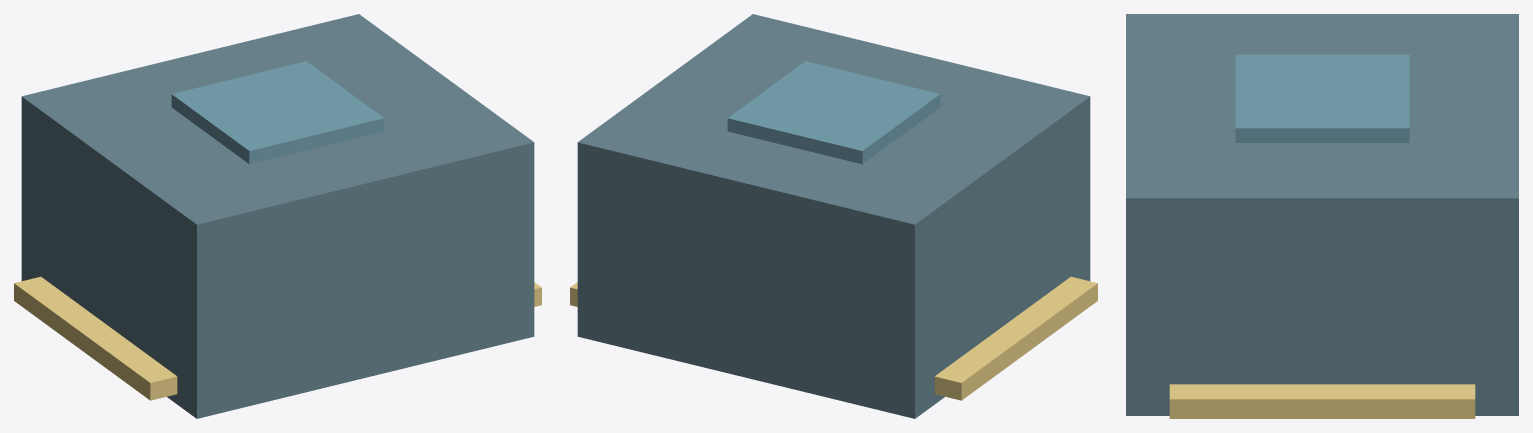
The picture shows the model from 3 angles, left to right: view 1: azimuth 30°, elevation 25°; view 2: azimuth 150°, elevation 25°; view 3: azimuth 270°, elevation 25°; orthographic projection. The views are drawn at different scales.
Parts seen in each view (by area): view 1: L122_sensor__PSMAT__sensor, L122_lens__PSMAT__lens, L122_gold__PSMAT__gold; view 2: L122_sensor__PSMAT__sensor, L122_lens__PSMAT__lens, L122_gold__PSMAT__gold; view 3: L122_sensor__PSMAT__sensor, L122_lens__PSMAT__lens, L122_gold__PSMAT__gold.
Part boxes in pixels (<box>): L122_sensor__PSMAT__sensor: <box>21,14,534,418</box>; L122_lens__PSMAT__lens: <box>171,61,384,164</box>; L122_gold__PSMAT__gold: <box>14,276,541,400</box>; L122_sensor__PSMAT__sensor: <box>577,14,1090,418</box>; L122_lens__PSMAT__lens: <box>727,61,940,164</box>; L122_gold__PSMAT__gold: <box>570,276,1097,400</box>; L122_sensor__PSMAT__sensor: <box>1126,14,1518,415</box>; L122_lens__PSMAT__lens: <box>1235,54,1409,142</box>; L122_gold__PSMAT__gold: <box>1169,384,1475,418</box>.
Bounding box in the file's own units: 0.0116 × 0.00587 × 0.009.
